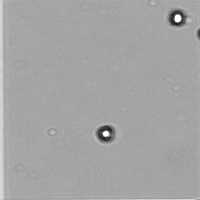Living Cell: (163, 7, 191, 31), (91, 122, 119, 146)
